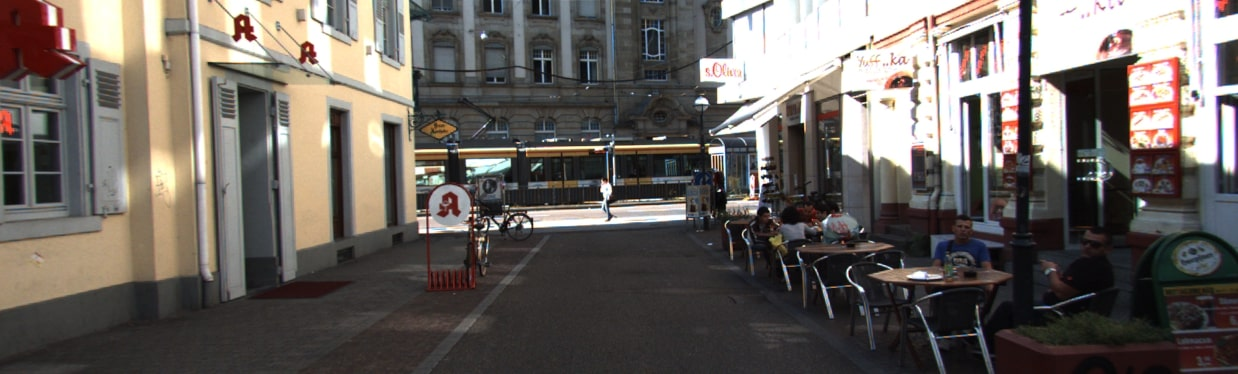Tram: (407, 136, 707, 205)
person: (1022, 224, 1112, 320), (933, 210, 985, 263), (749, 204, 775, 245), (601, 177, 616, 228)
